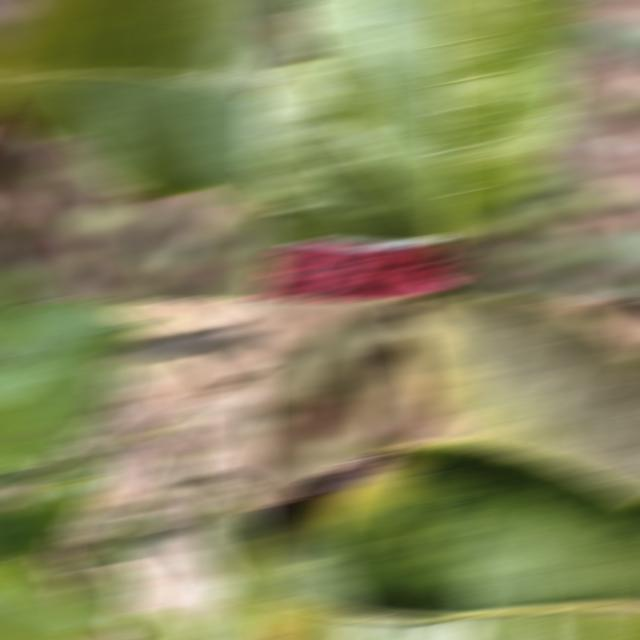Leaf: (248, 442, 640, 638), (291, 2, 575, 245), (0, 2, 264, 203), (399, 302, 640, 496), (248, 63, 439, 239), (0, 302, 150, 470), (197, 529, 264, 638), (0, 562, 95, 638), (55, 554, 133, 638), (18, 481, 103, 549), (203, 491, 263, 579), (295, 322, 354, 405), (355, 359, 411, 432), (42, 441, 114, 497), (0, 497, 46, 570), (98, 516, 161, 561), (248, 30, 290, 83), (121, 611, 195, 638)
